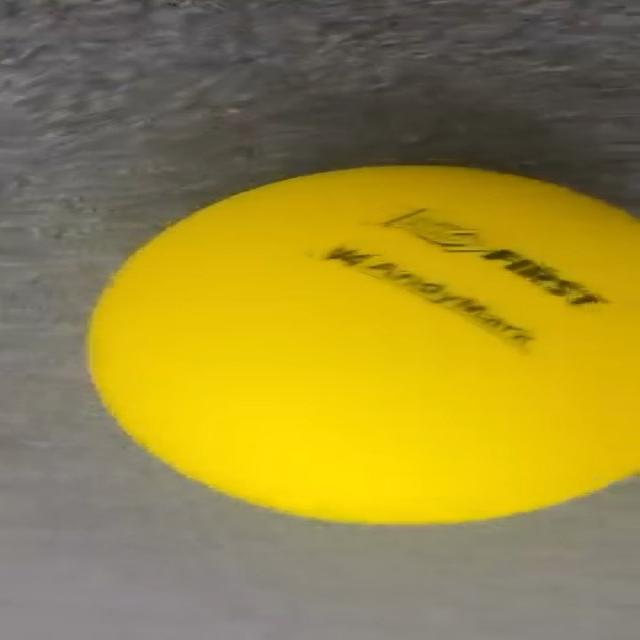Fuels: (91, 167, 638, 522)
